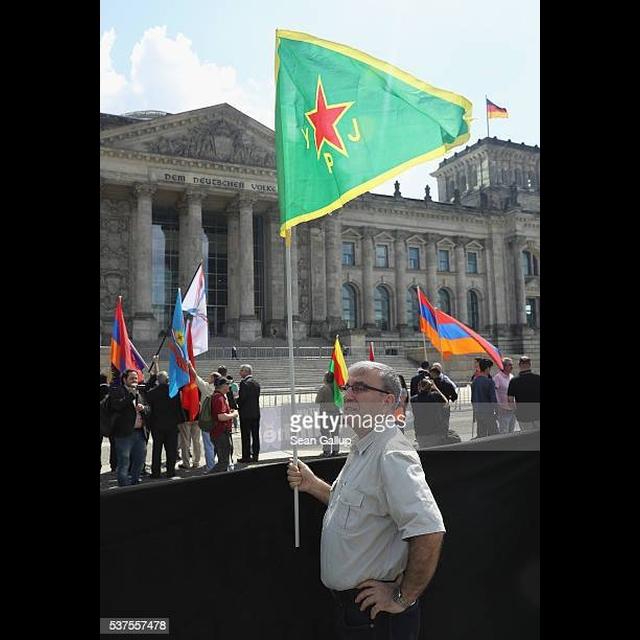YPJ: (293, 70, 372, 178)
